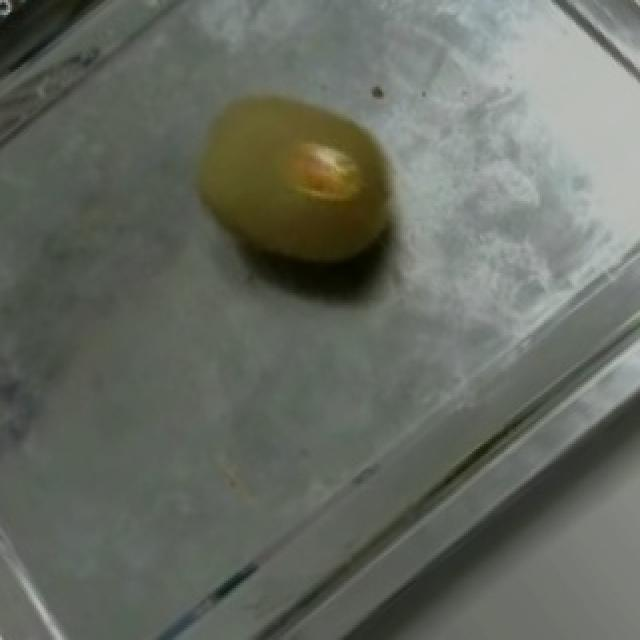Fruit: (150, 47, 436, 315)
